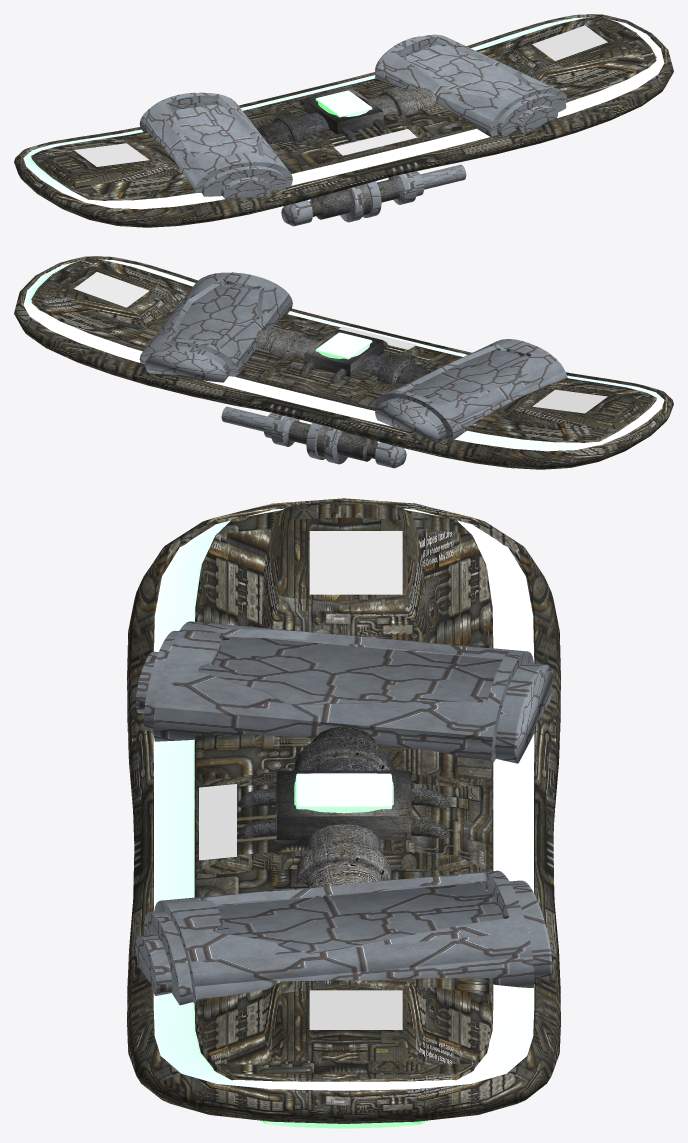
The model's file is hoverboard.glb.
The picture shows the model from 3 angles, top to bottom: view 1: azimuth 30°, elevation 25°; view 2: azimuth 150°, elevation 25°; view 3: azimuth 270°, elevation 25°; orthographic projection. The views are drawn at different scales.
Parts seen in each view (by area): view 1: HOVER BOARD_0; view 2: HOVER BOARD_0; view 3: HOVER BOARD_0.
Part boxes in pixels (box(x1,y1,x2,y2)): HOVER BOARD_0: box(14, 14, 673, 227); HOVER BOARD_0: box(14, 256, 673, 469); HOVER BOARD_0: box(127, 498, 560, 1128).
Bounding box in the file's own units: 13.13 × 1.77 × 3.98.
5 materials, 3 textured.
